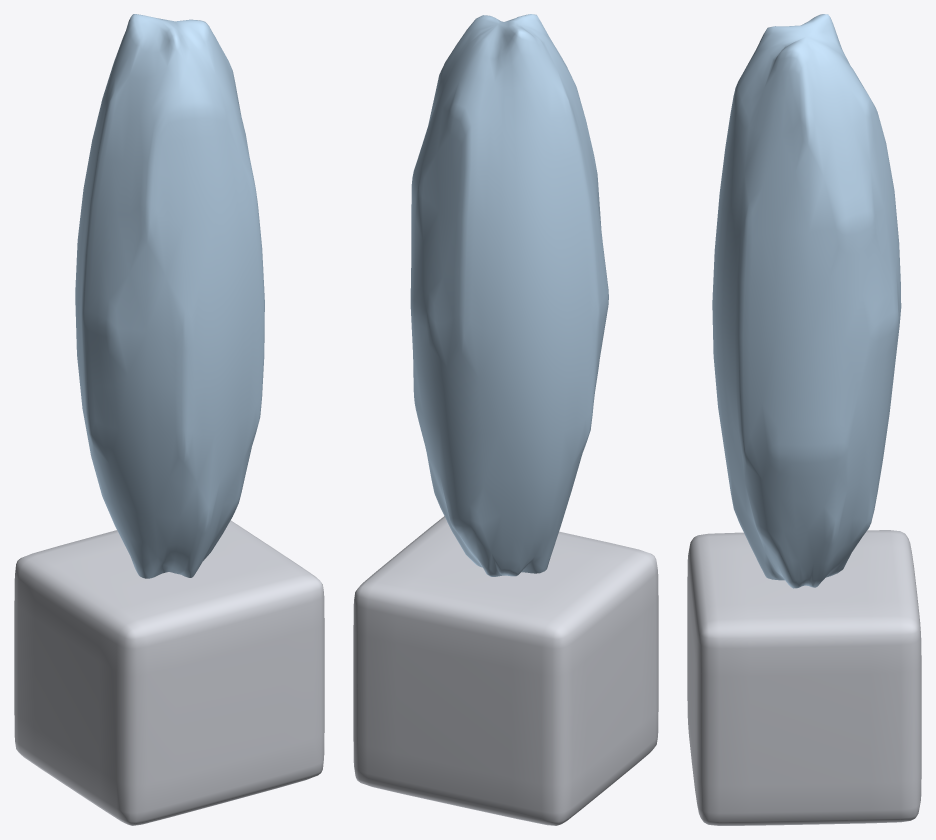
File: PROP_Fountain_v2.glb
3 views of the same model, side by side, from view 1: azimuth 30°, elevation 25°; view 2: azimuth 150°, elevation 25°; view 3: azimuth 270°, elevation 25° (orthographic).
Parts seen in each view (by area): view 1: PROP_Fountain_v2; view 2: PROP_Fountain_v2; view 3: PROP_Fountain_v2.
Part boxes in pixels (box(x1,y1,x2,y2)): PROP_Fountain_v2: box(14, 14, 324, 825); PROP_Fountain_v2: box(353, 14, 658, 825); PROP_Fountain_v2: box(687, 14, 921, 825).
Bounding box in the file's own units: 1.08 × 3.56 × 1.
